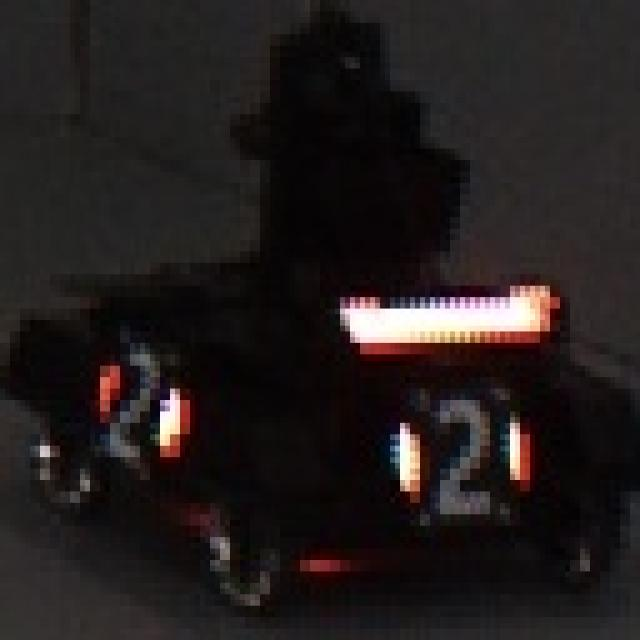R2: (390, 394, 535, 520), (90, 343, 190, 474)
